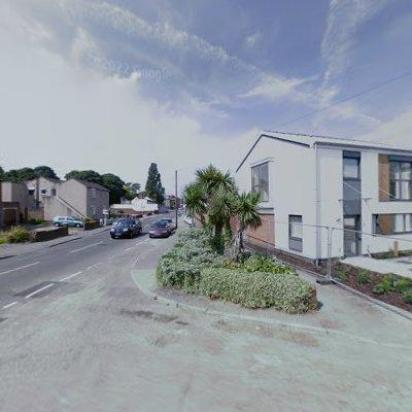moving-car: (109, 218, 141, 238)
stationary-car-offstreet: (50, 213, 88, 229)
stationary-car-onstreet: (148, 220, 172, 238), (158, 217, 178, 232)
